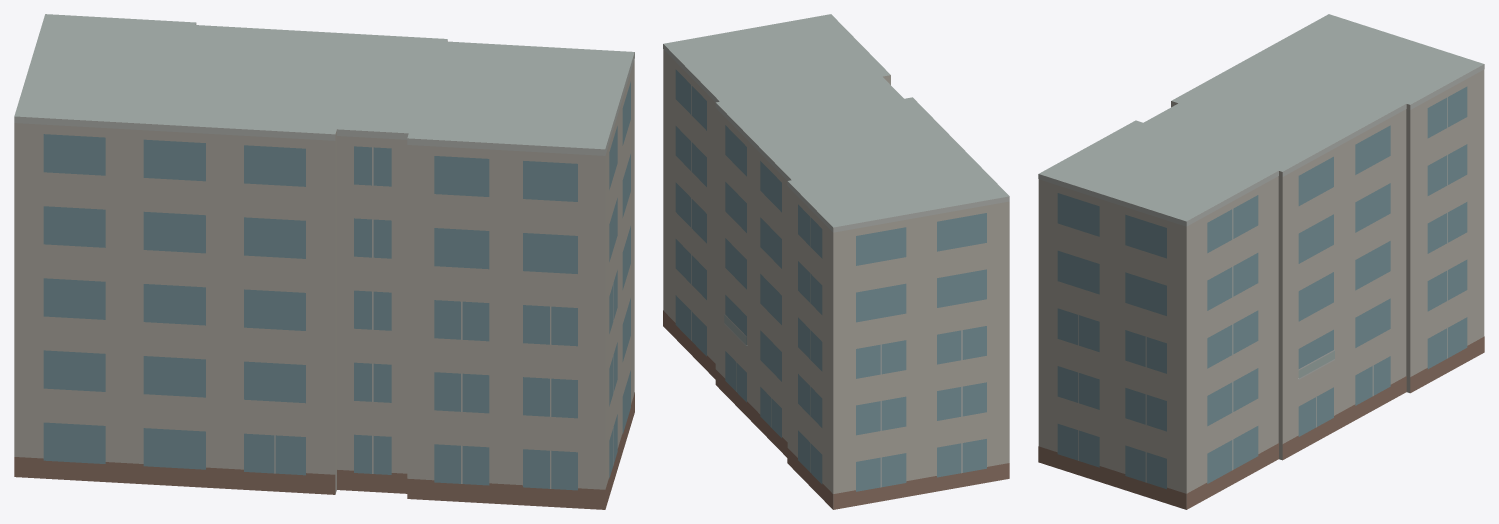
File: survey-upis-32635989.glb
The picture shows the model from 3 angles, left to right: view 1: azimuth 30°, elevation 25°; view 2: azimuth 150°, elevation 25°; view 3: azimuth 270°, elevation 25°; orthographic projection. The views are drawn at different scales.
Parts seen in each view (by area): view 1: survey-upis-32635989.tmp; view 2: survey-upis-32635989.tmp; view 3: survey-upis-32635989.tmp.
Part boxes in pixels (<box>): survey-upis-32635989.tmp: <box>14,14,634,509</box>; survey-upis-32635989.tmp: <box>663,14,1009,509</box>; survey-upis-32635989.tmp: <box>1038,14,1484,509</box>.
Bounding box in the file's own units: 20.76 × 13.45 × 18.86.
